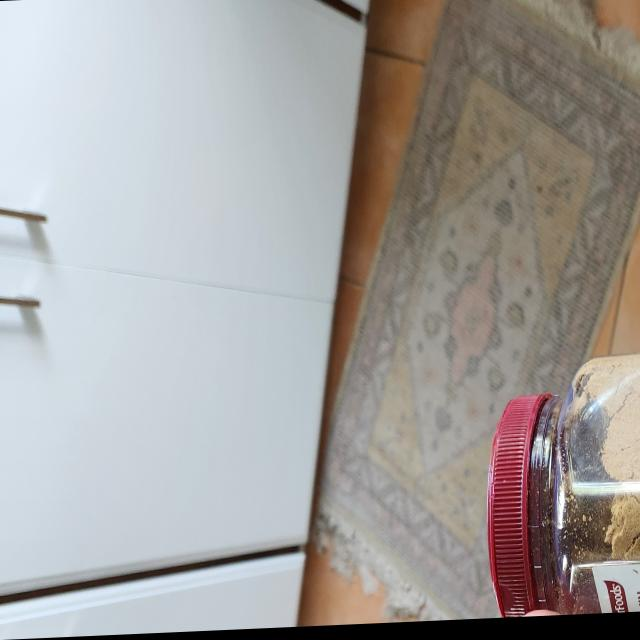cumin: (487, 355, 640, 623)
